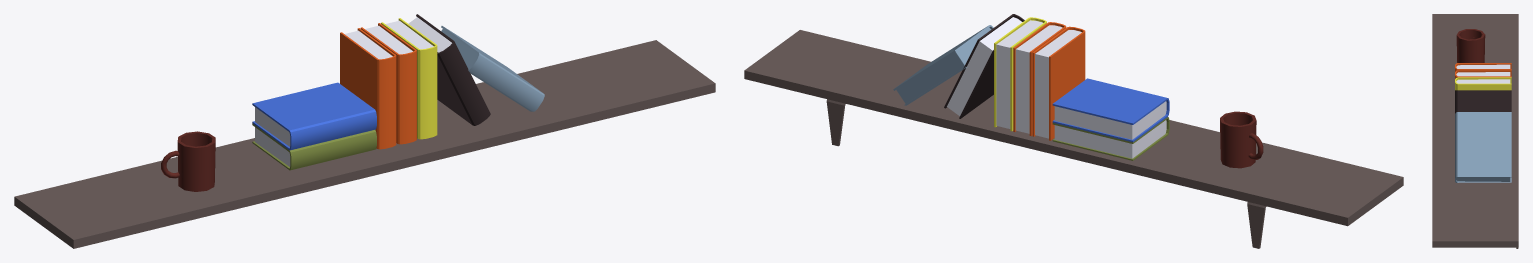
The model's file is Shelf_2.fbx.
3 renders of one model, left to right at view 1: azimuth 30°, elevation 25°; view 2: azimuth 150°, elevation 25°; view 3: azimuth 270°, elevation 25°, orthographic. The views are drawn at different scales.
Parts seen in each view (by area): view 1: shelf, book009, book, book003, book002, book001, book008, book004, mug; view 2: shelf, book009, book, book003, book002, book001, book008, book004, mug; view 3: shelf, book004, book003, mug, book002, book001, book.
Boxes of the visible parts, x1,y1,x2,y2 form: shelf: [14, 40, 715, 248]; book009: [252, 82, 376, 150]; book: [340, 28, 396, 149]; book003: [408, 14, 490, 125]; book002: [381, 18, 437, 139]; book001: [360, 23, 416, 144]; book008: [252, 123, 376, 170]; book004: [441, 26, 544, 111]; mug: [161, 131, 215, 191]; shelf: [744, 30, 1403, 248]; book009: [1052, 78, 1169, 142]; book: [1032, 26, 1085, 140]; book003: [944, 14, 1024, 118]; book002: [994, 17, 1046, 131]; book001: [1013, 22, 1066, 136]; book008: [1052, 117, 1169, 160]; book004: [893, 25, 993, 105]; mug: [1220, 111, 1263, 168]; shelf: [1432, 14, 1518, 248]; book004: [1455, 112, 1511, 182]; book003: [1455, 90, 1511, 113]; mug: [1456, 29, 1485, 62]; book002: [1455, 77, 1511, 90]; book001: [1455, 70, 1511, 78]; book: [1455, 63, 1511, 71].
Bounding box in the file's own units: 150 × 32.46 × 24.
